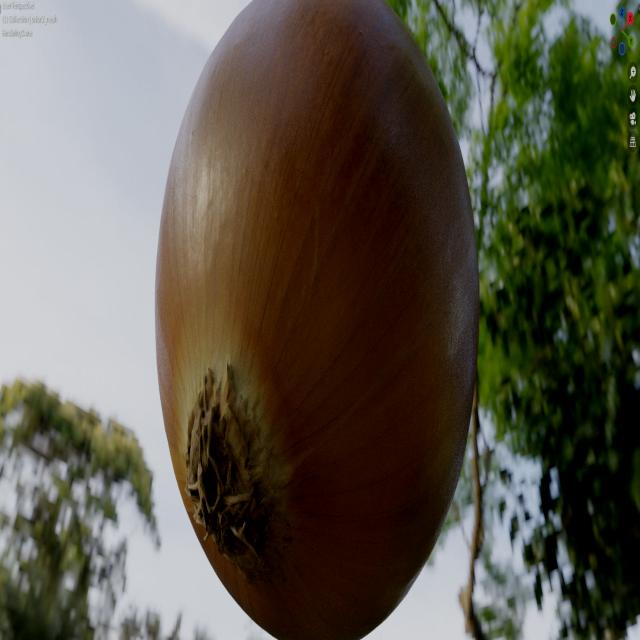onion: (153, 0, 483, 632)
